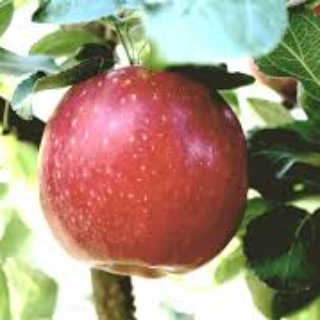tao: (32, 61, 254, 282)
